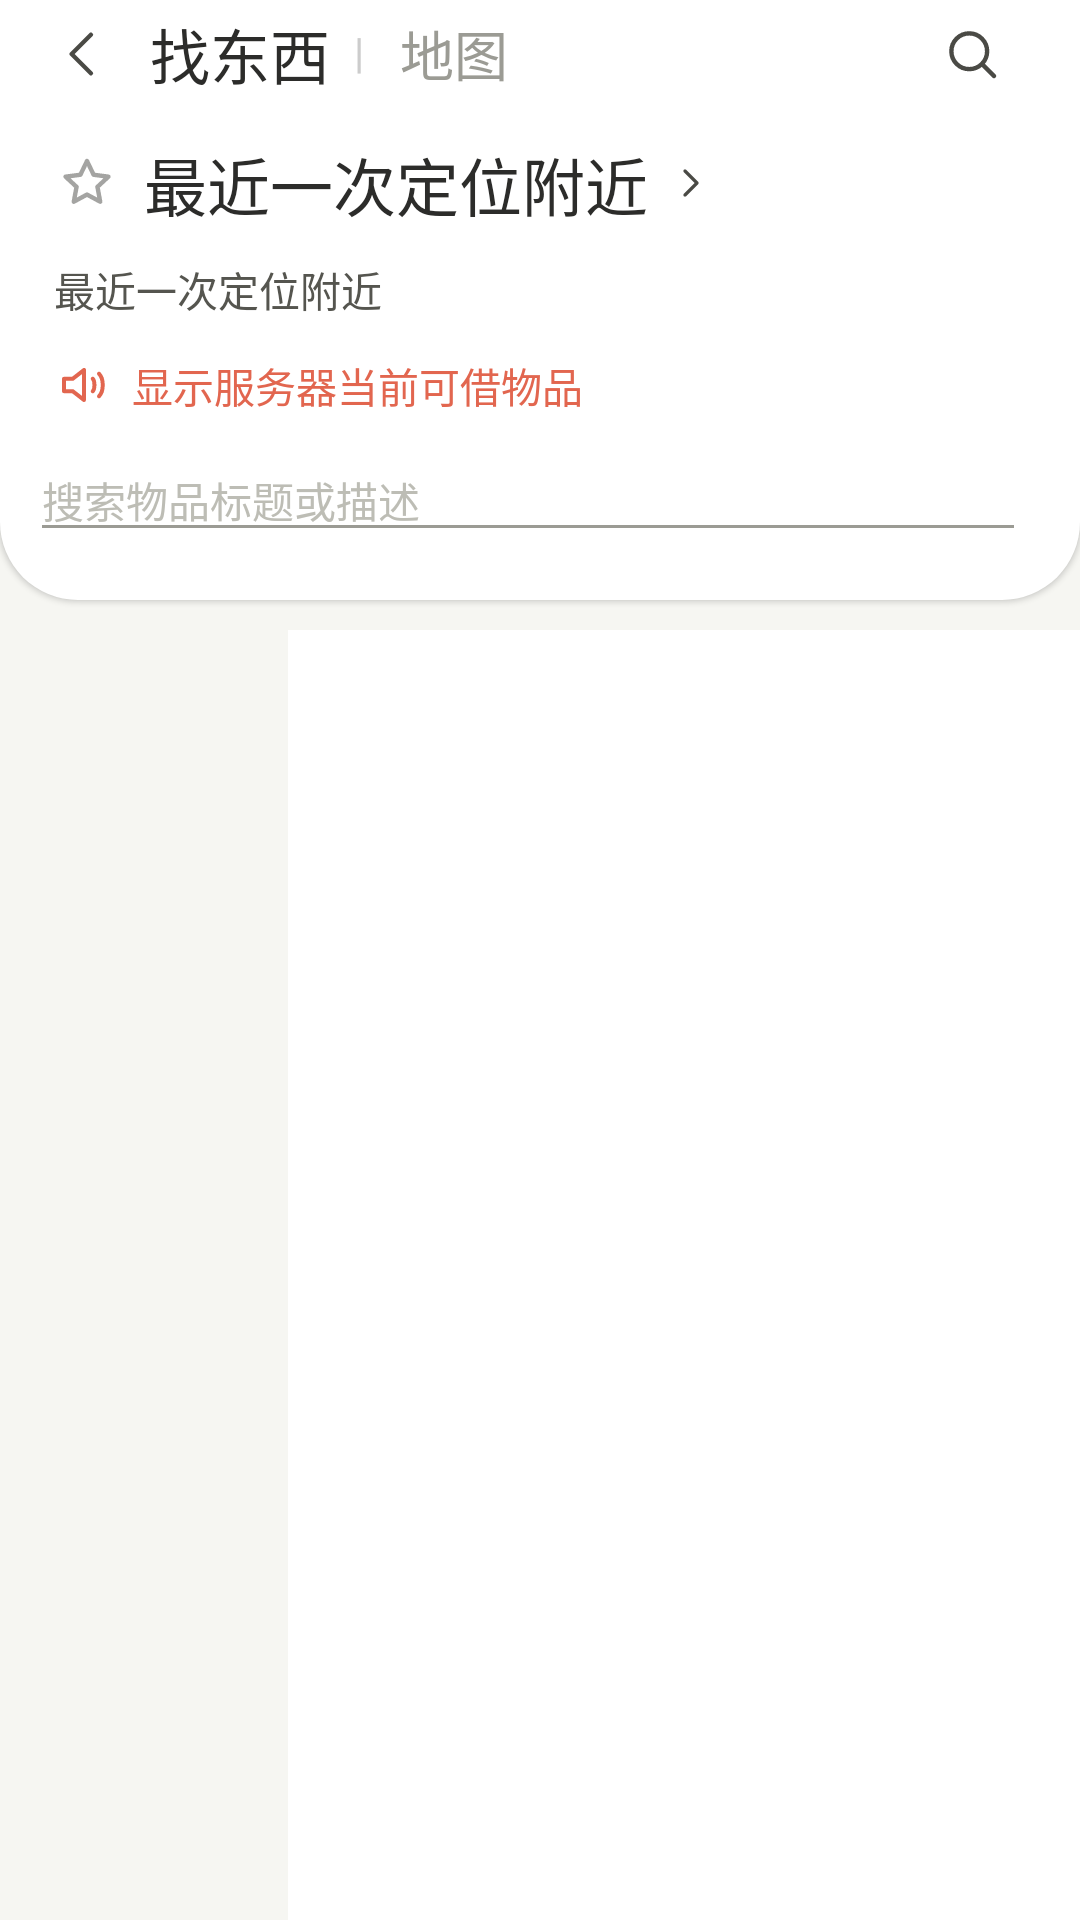

Screen size 1080x1920. Icon name, then its center in pixels as point (x, y):
right: point (691, 183)
speaker coral: point (83, 385)
star: point (87, 181)
搜索: point (972, 55)
返回: point (81, 54)
